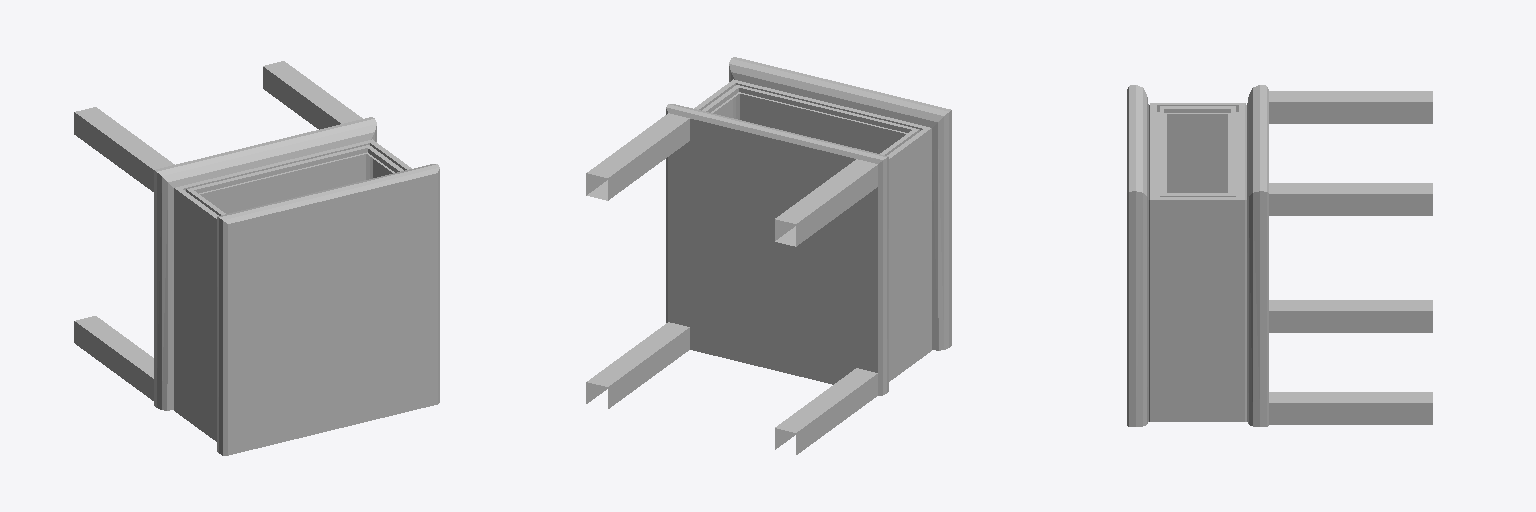
Rendered from FrontEndTable.obj.
The picture shows the model from 3 angles: view 1: azimuth 30°, elevation 25°; view 2: azimuth 150°, elevation 25°; view 3: azimuth 270°, elevation 25°; orthographic projection.
Size of the model in its own units: 7.69 by 7.94 by 9.36.